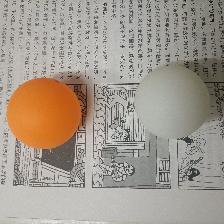WhiteBall: (133, 63, 210, 139)
YellowBall: (5, 77, 81, 149)
